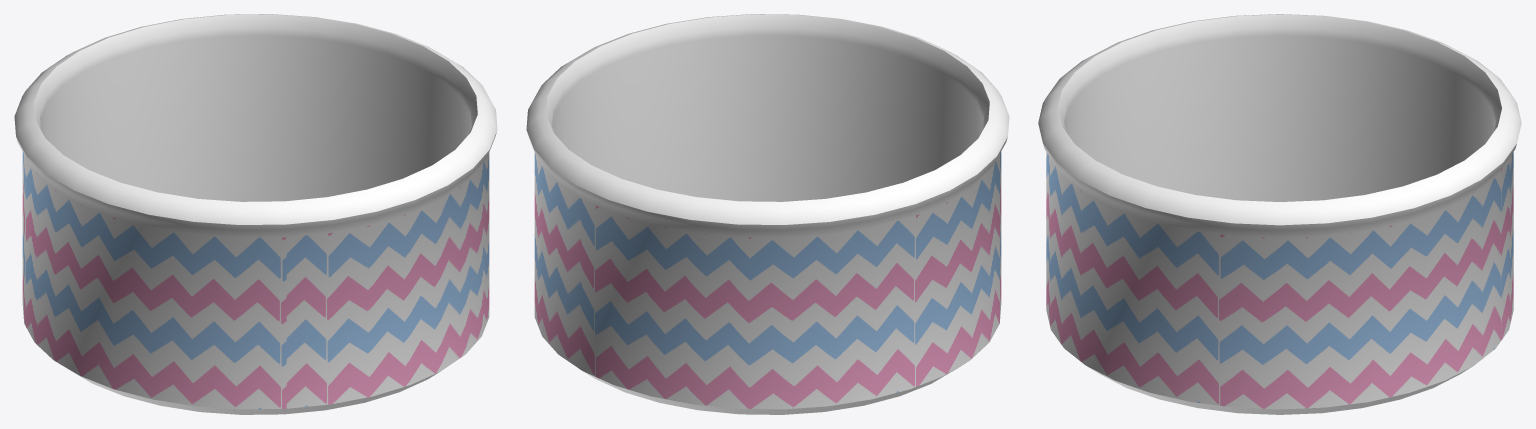
Rendered from ice_cream_cup1.fbx.
The picture shows the model from 3 angles, left to right: view 1: azimuth 30°, elevation 25°; view 2: azimuth 150°, elevation 25°; view 3: azimuth 270°, elevation 25°; orthographic projection.
Visible parts, largest first — view 1: Circle; view 2: Circle; view 3: Circle.
Part boxes in pixels (x1=…): Circle: x1=14, y1=14, x2=497, y2=414; Circle: x1=526, y1=14, x2=1009, y2=414; Circle: x1=1038, y1=14, x2=1521, y2=414.
Size of the model in its own units: 13.32 by 6.54 by 13.32.
1 material, 1 textured.
